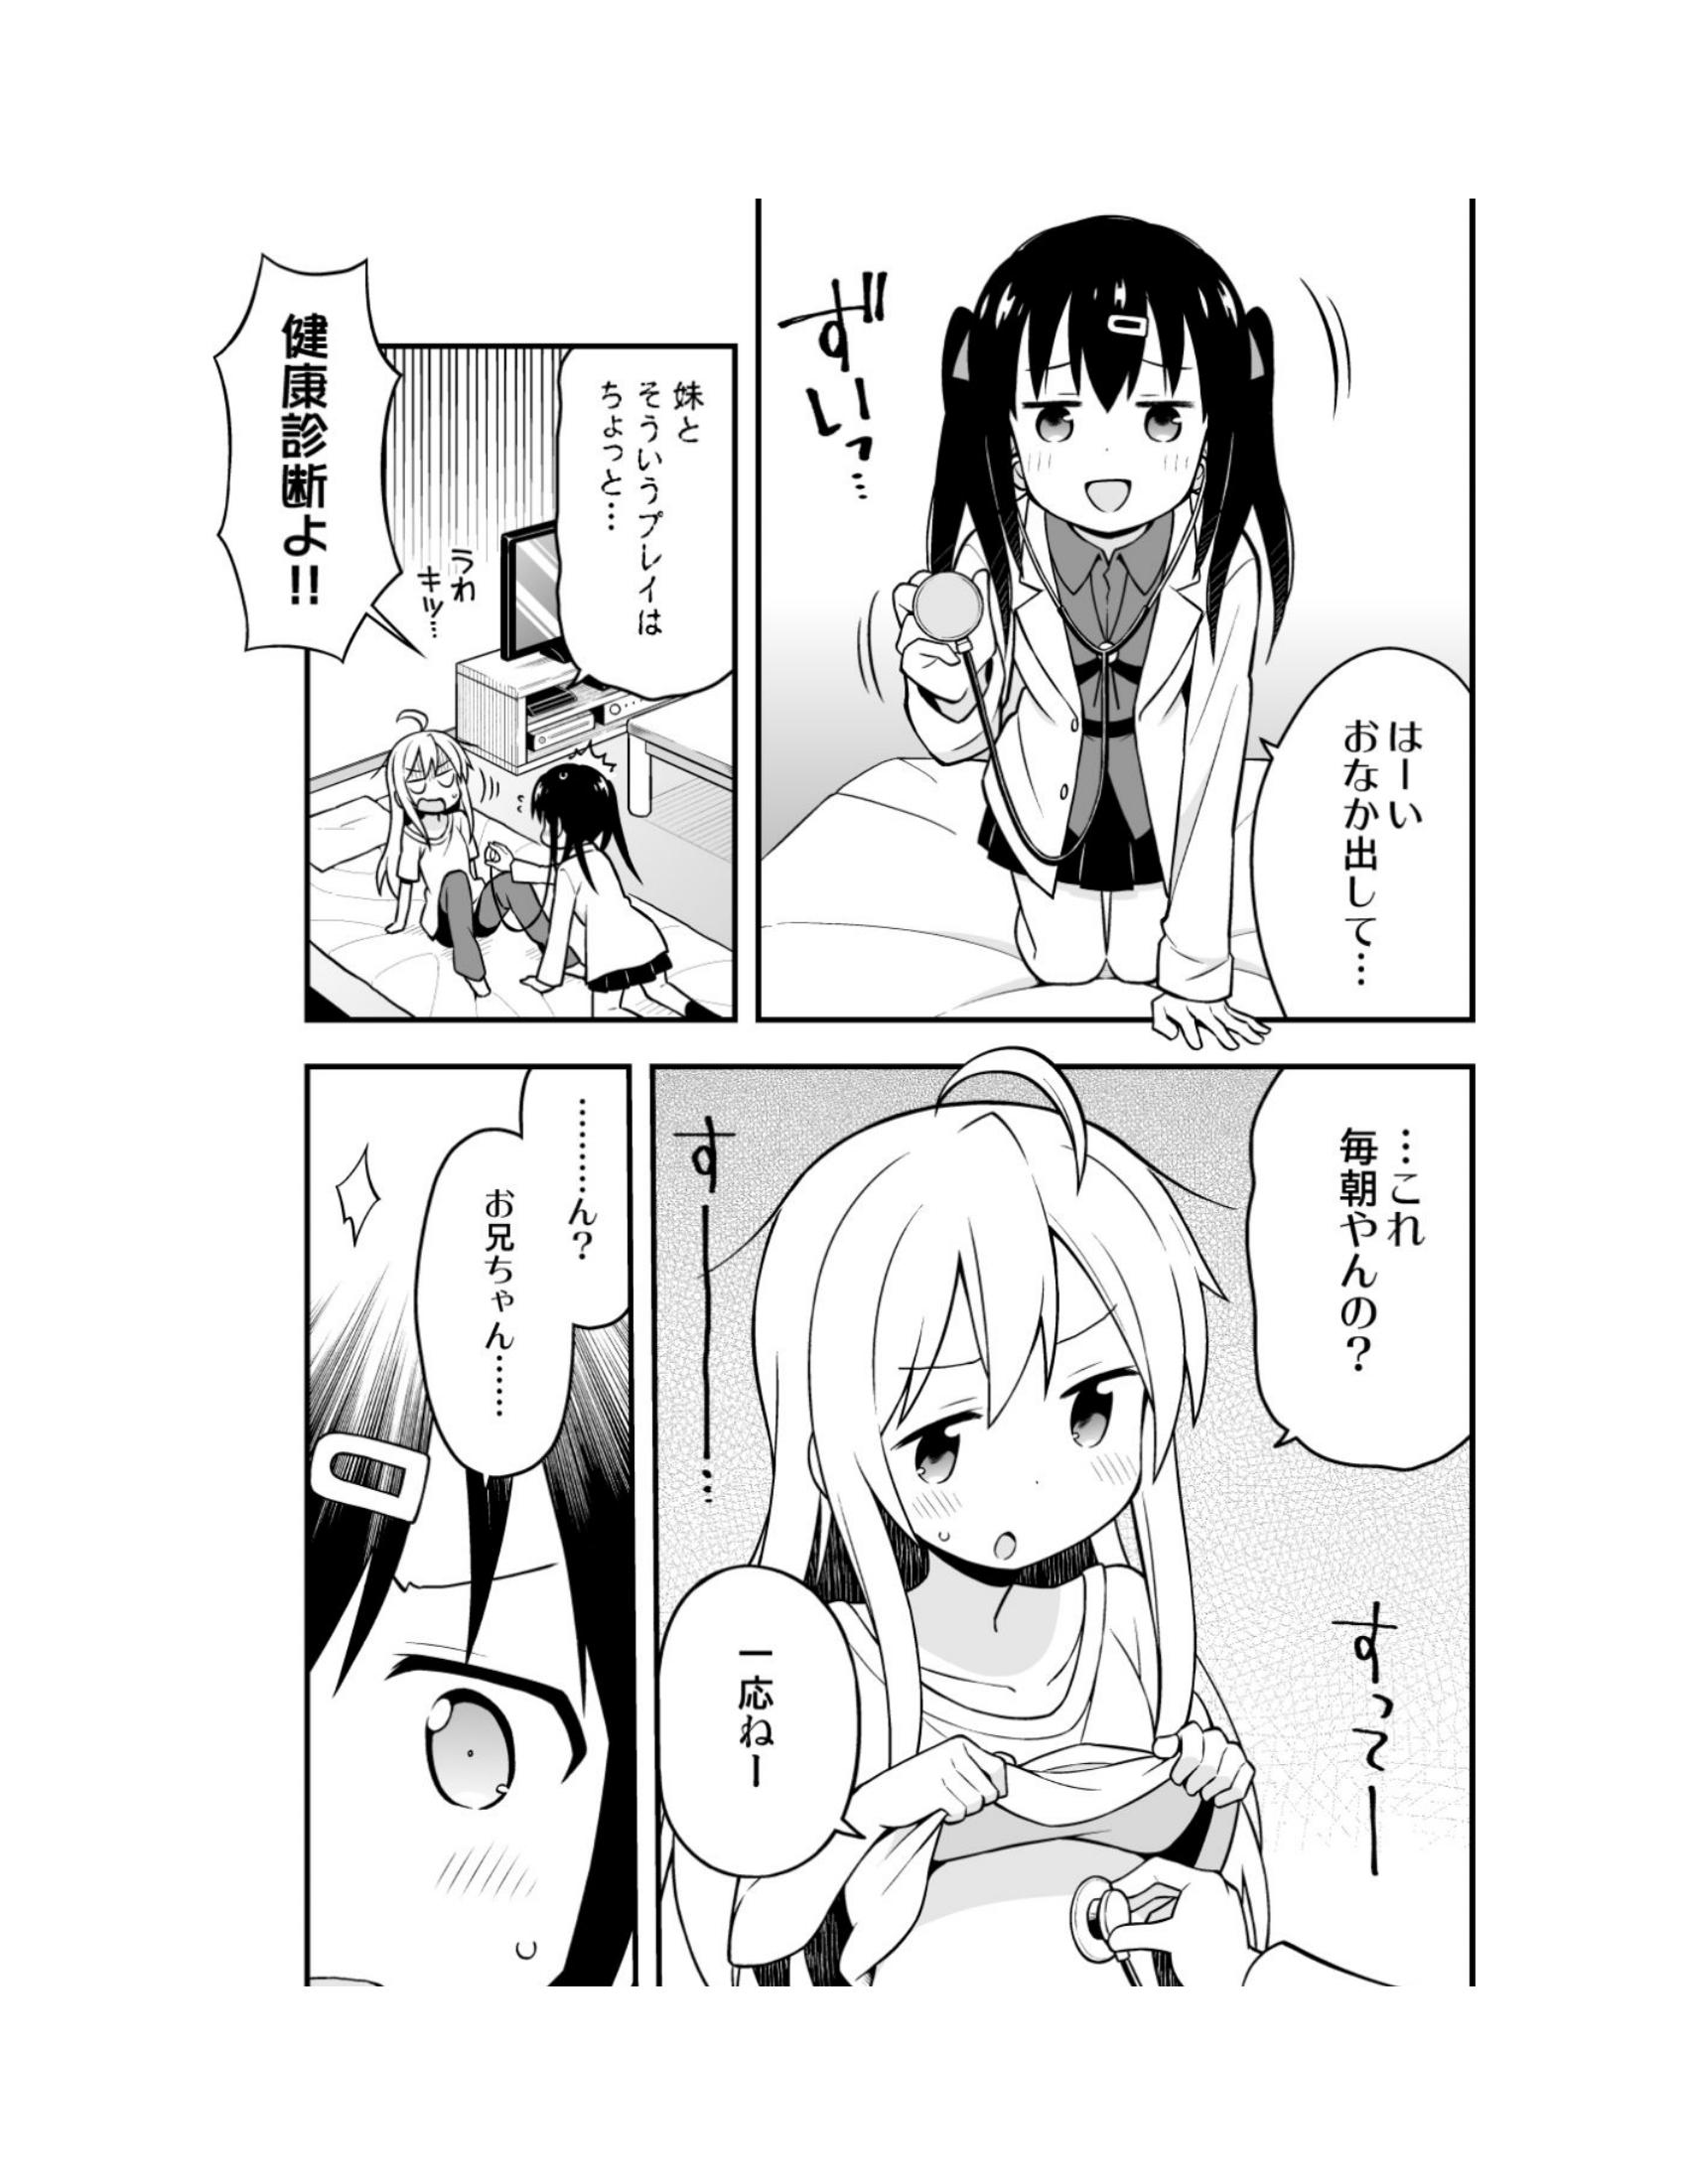a: (1238, 1060, 1470, 1464), (1250, 643, 1493, 1007), (215, 252, 413, 667), (548, 326, 762, 704), (392, 1124, 564, 1477), (665, 1569, 844, 1877)
